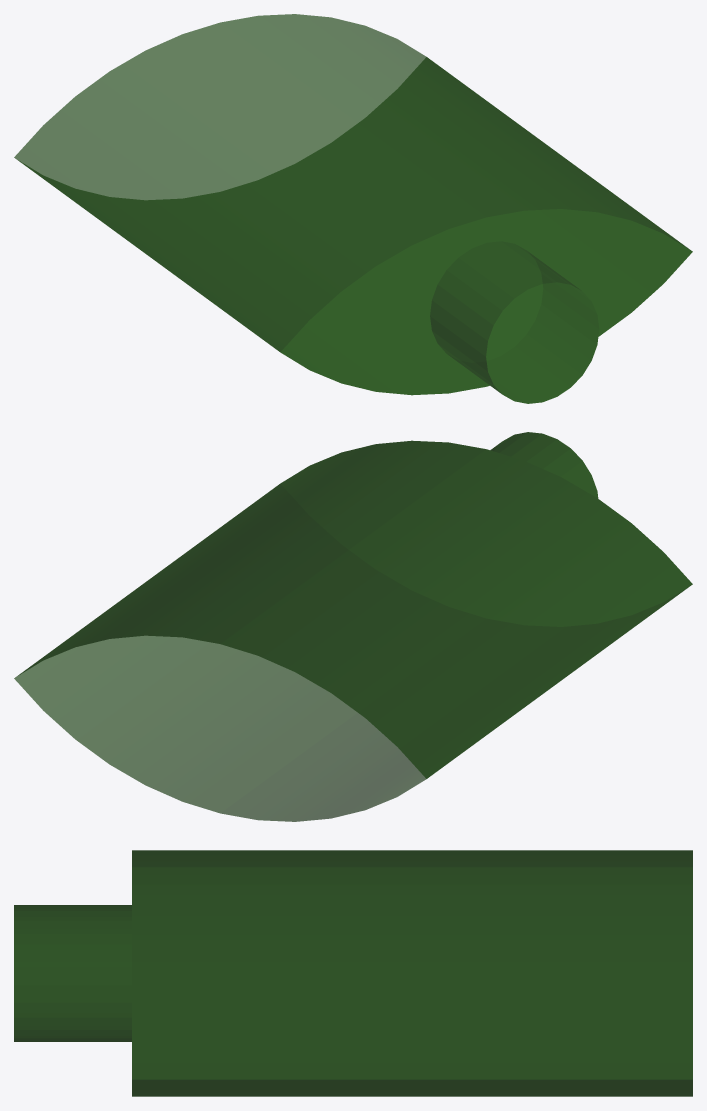
File: model_scale.obj
3 views of the same model, one above another, from view 1: azimuth 30°, elevation 25°; view 2: azimuth 150°, elevation 25°; view 3: azimuth 270°, elevation 25° (orthographic). The views are drawn at different scales.
Visible parts, largest first — view 1: mesh1_mesh1-geometry, mesh2_mesh2-geometry; view 2: mesh1_mesh1-geometry, mesh2_mesh2-geometry; view 3: mesh1_mesh1-geometry, mesh2_mesh2-geometry.
Boxes of the visible parts, x1,y1,x2,y2 form: mesh1_mesh1-geometry: (14, 14, 692, 395); mesh2_mesh2-geometry: (430, 241, 599, 403); mesh1_mesh1-geometry: (14, 440, 692, 821); mesh2_mesh2-geometry: (431, 432, 598, 593); mesh1_mesh1-geometry: (132, 850, 692, 1096); mesh2_mesh2-geometry: (14, 905, 131, 1041).
Size of the model in its own units: 0.1023 by 0.0401 by 0.1385.
